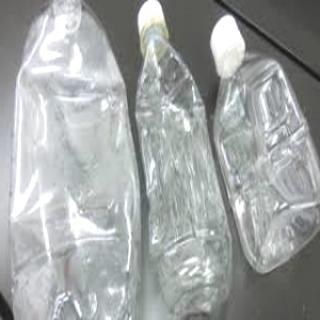Plastic: (9, 0, 143, 320), (136, 0, 233, 320), (208, 12, 320, 275)
